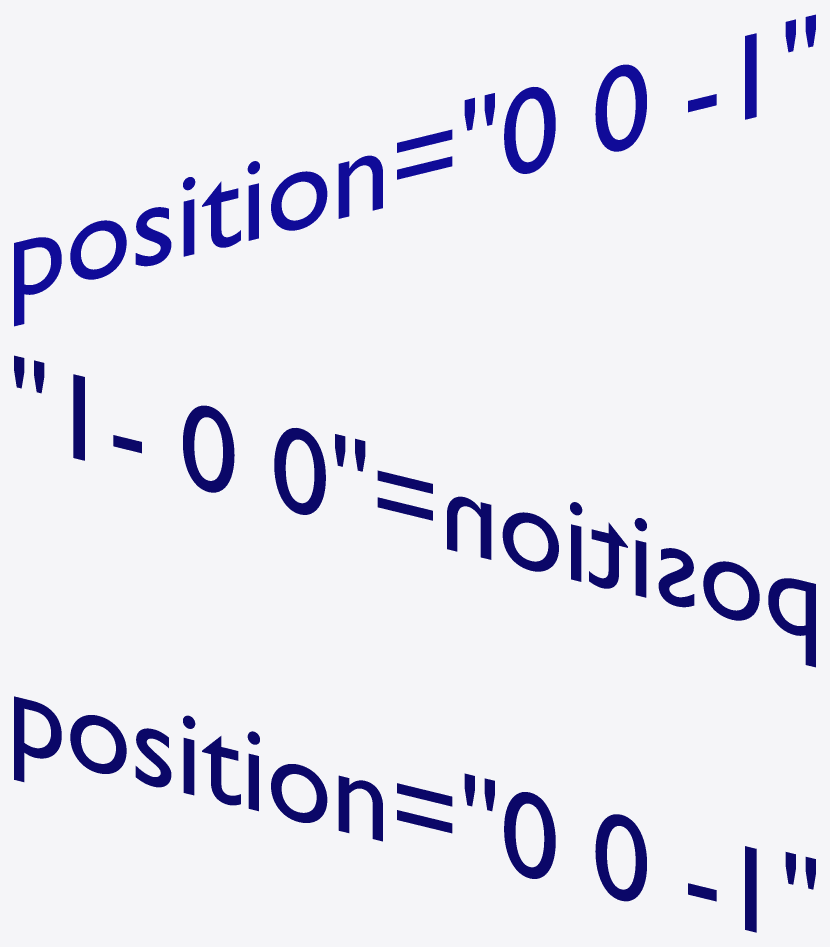
File: positionMinusZ.glb
The picture shows the model from 3 angles, top to bottom: view 1: azimuth 30°, elevation 25°; view 2: azimuth 150°, elevation 25°; view 3: azimuth 330°, elevation 25°; orthographic projection.
Parts seen in each view (by area): view 1: Text; view 2: Text; view 3: Text.
Boxes of the visible parts, x1=… form: Text: x1=14, y1=14, x2=815, y2=326; Text: x1=14, y1=355, x2=815, y2=667; Text: x1=14, y1=696, x2=815, y2=932.
Size of the model in its own units: 6.83 by 0.946 by 2.1e-16.
